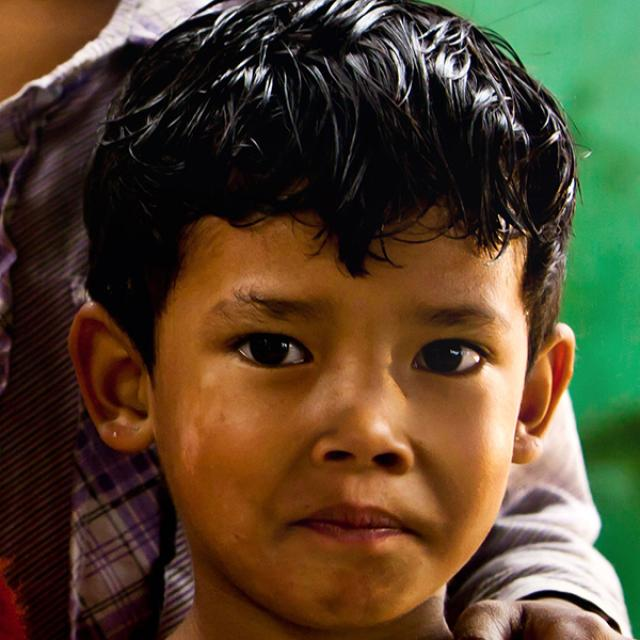face: (71, 29, 576, 636)
